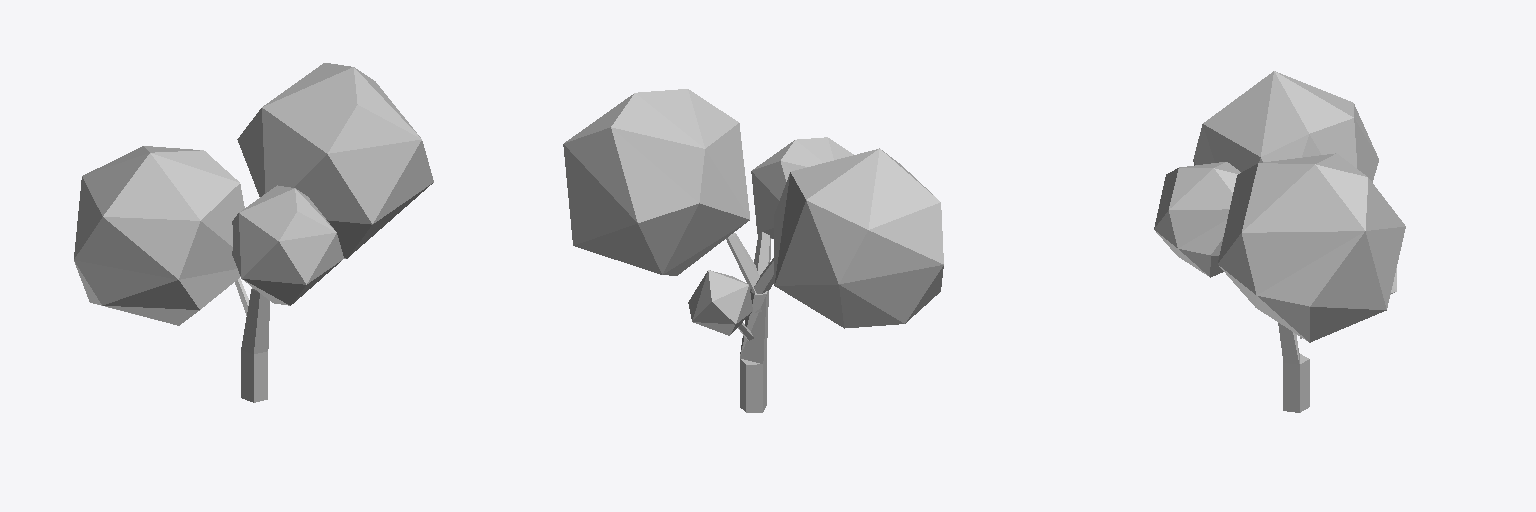
File: oak.obj
3 views of the same model, side by side, from view 1: azimuth 30°, elevation 25°; view 2: azimuth 150°, elevation 25°; view 3: azimuth 270°, elevation 25° (orthographic).
Parts seen in each view (by area): view 1: trunk_Cylinder.008; view 2: trunk_Cylinder.008; view 3: trunk_Cylinder.008.
Boxes of the visible parts, x1=… form: trunk_Cylinder.008: x1=74, y1=63, x2=433, y2=402; trunk_Cylinder.008: x1=563, y1=89, x2=943, y2=412; trunk_Cylinder.008: x1=1154, y1=71, x2=1405, y2=412.
Bounding box in the file's own units: 36.9 × 29.14 × 22.49.